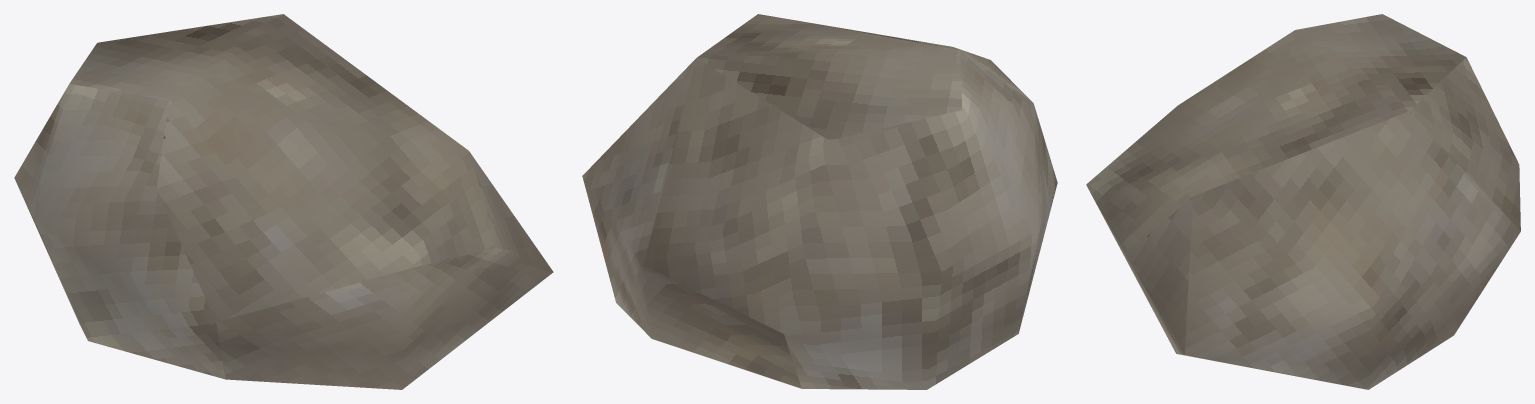
File: rock_handpainted_5.glb
3 views of the same model, side by side, from view 1: azimuth 30°, elevation 25°; view 2: azimuth 150°, elevation 25°; view 3: azimuth 270°, elevation 25° (orthographic). The views are drawn at different scales.
Visible parts, largest first — view 1: rock_5; view 2: rock_5; view 3: rock_5.
Boxes of the visible parts, x1=… form: rock_5: x1=14, y1=14, x2=553, y2=389; rock_5: x1=582, y1=14, x2=1057, y2=389; rock_5: x1=1086, y1=14, x2=1520, y2=389.
Size of the model in its own units: 1.67 by 1.06 by 1.65.
Materials: 1 (1 with a texture image).
